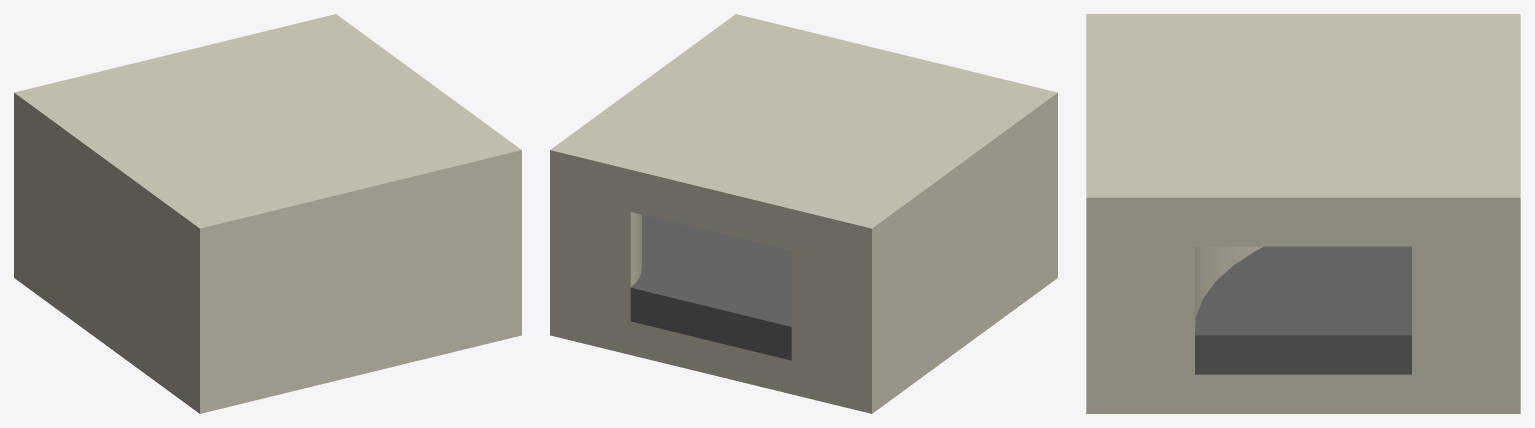
File: tile250.dae
3 renders of one model, left to right at view 1: azimuth 30°, elevation 25°; view 2: azimuth 150°, elevation 25°; view 3: azimuth 270°, elevation 25°, orthographic. The views are drawn at different scales.
Parts seen in each view (by area): view 1: tile250; view 2: tile250; view 3: tile250.
Boxes of the visible parts, x1=… form: tile250: x1=14, y1=14, x2=521, y2=413; tile250: x1=550, y1=14, x2=1057, y2=413; tile250: x1=1086, y1=14, x2=1520, y2=413.
Size of the model in its own units: 1 by 0.55 by 1.
